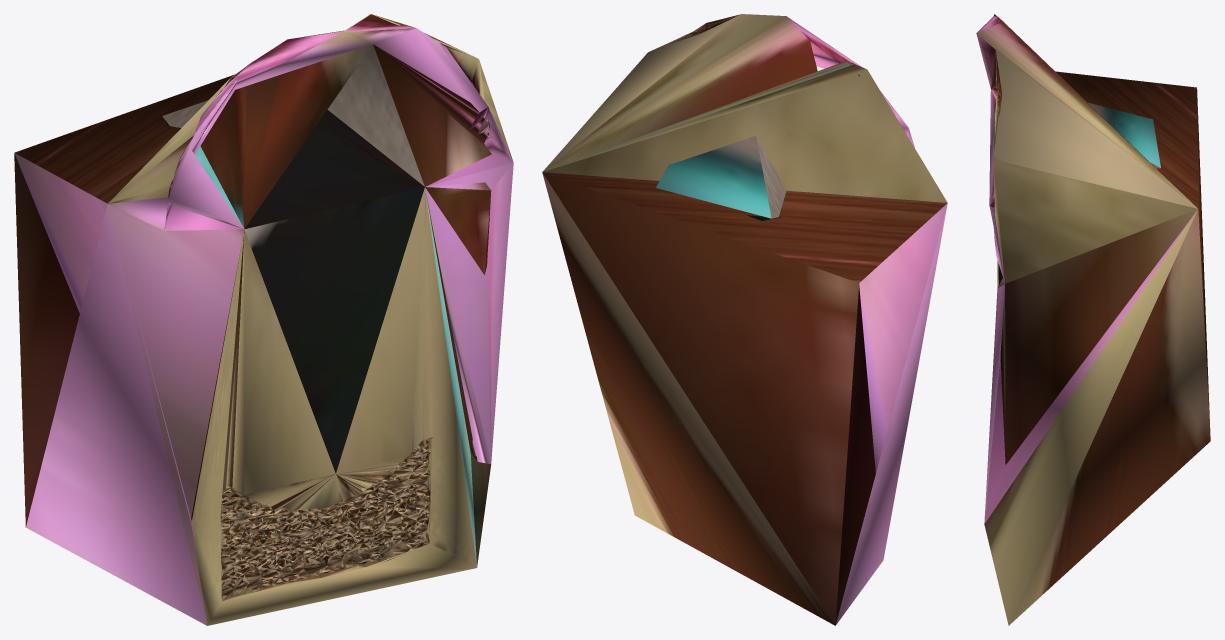
The model's file is jukebox.glb.
The picture shows the model from 3 angles, left to right: view 1: azimuth 30°, elevation 25°; view 2: azimuth 150°, elevation 25°; view 3: azimuth 270°, elevation 25°; orthographic projection. The views are drawn at different scales.
Visible parts, largest first — view 1: Mesh_0; view 2: Mesh_0; view 3: Mesh_0.
Part boxes in pixels (box(x1,y1,x2,y2)): Mesh_0: box(14, 14, 513, 625); Mesh_0: box(542, 14, 947, 625); Mesh_0: box(976, 14, 1210, 625).
Bounding box in the file's own units: 1.13 × 1.6 × 0.6455.
1 material, 1 textured.
